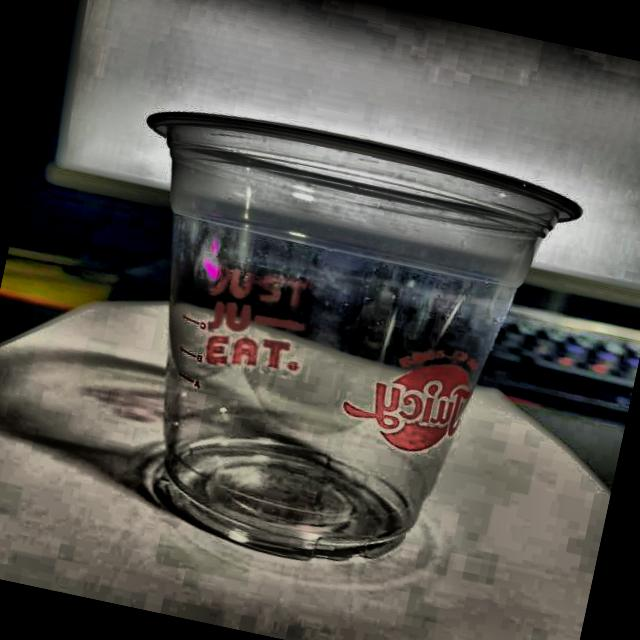plastic cup: (63, 90, 590, 603)
